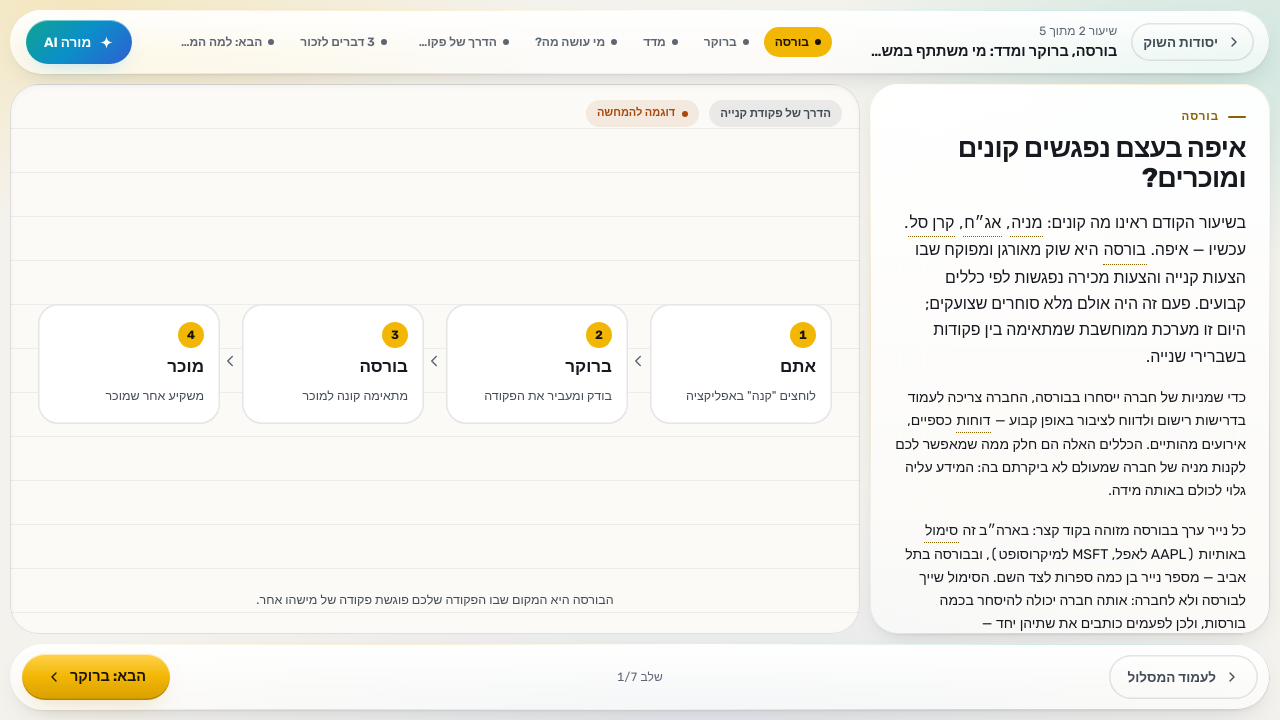
Scenario: Foundations 2–5 in the lesson workspace › F2 opens as a written lesson: its own heading, the order-path figure, then the weighted index
Expected: the heading "איפה בעצם נפגשים קונים ומוכרים?" is shown, [958,132,1246,194]
Expected: the text "הדרך של פקודת קנייה" is shown, [709,100,842,127]
Click the button "מדד": {"x": 660, "y": 42} [632,27,689,57]
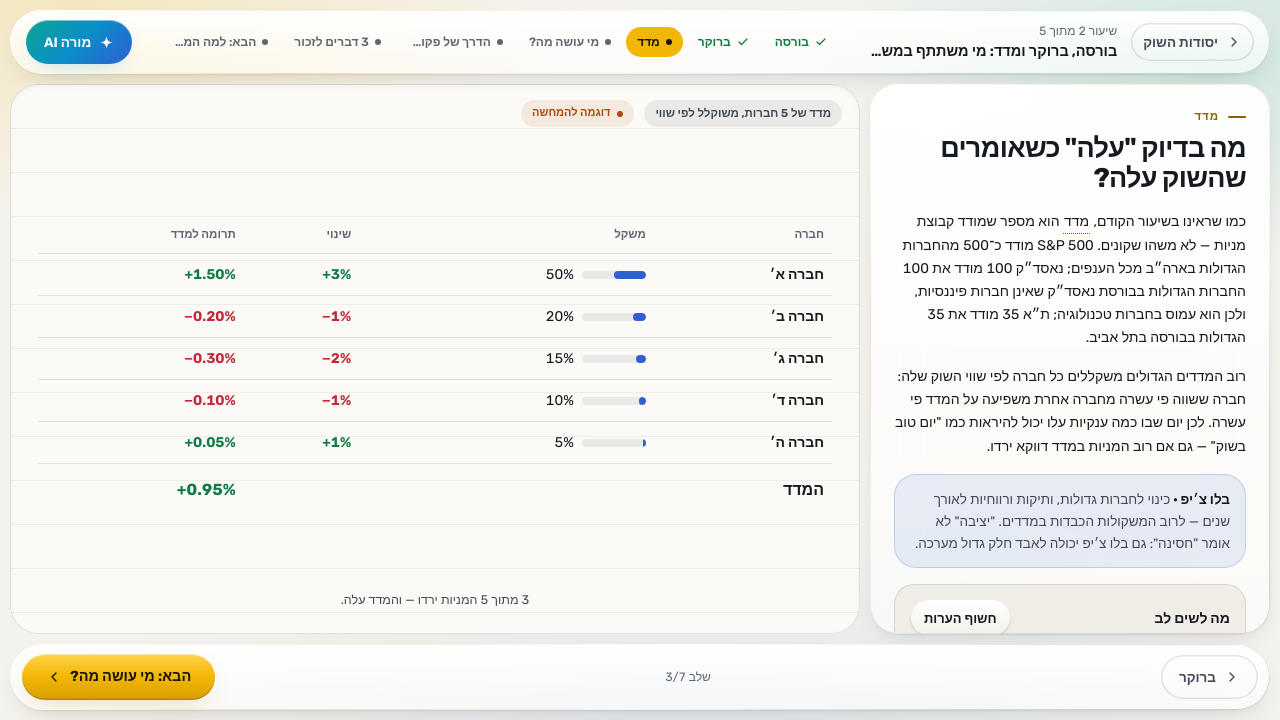
Now the text "+0.95%" is shown, box [177,478,236,502]
